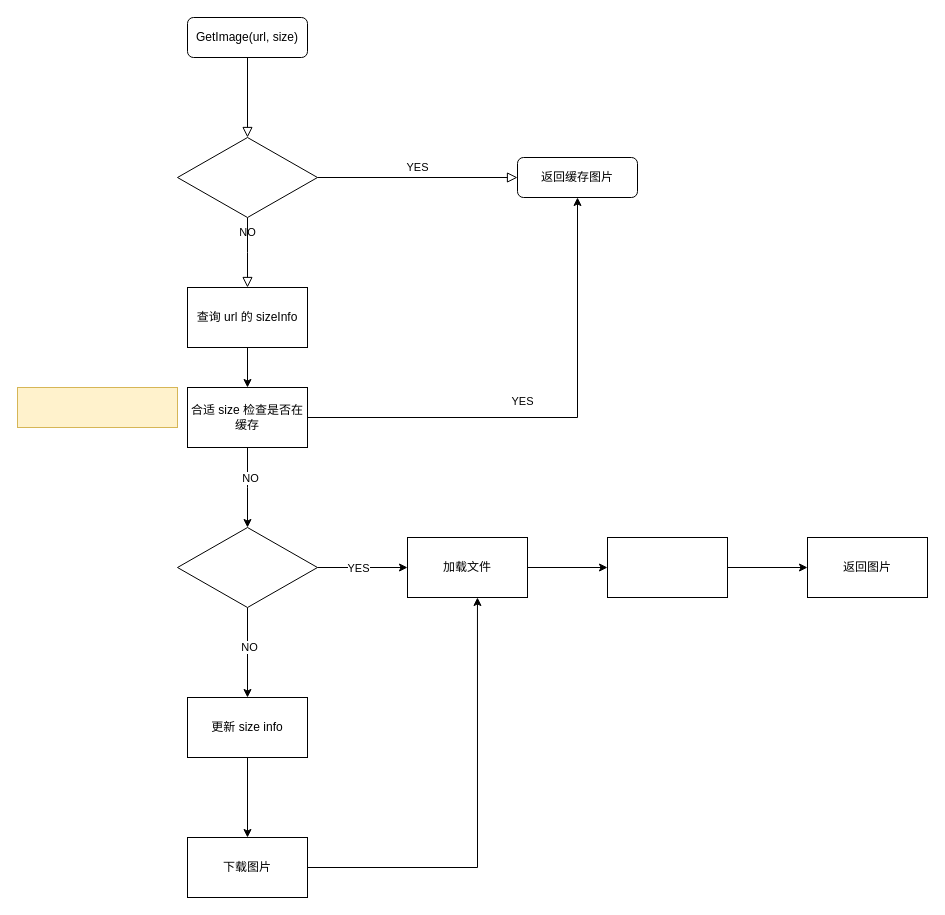
The diagram is 945 pixels wide and 915 high, and some of its shapes have lost their labels. The centre of each missing label's shape, as x and y in pixels:
url size info 怎样存储？: pixel 97 407
推荐size是否已下载: pixel 247 567
更新缓存: pixel 667 567
检查内存缓存有没有: pixel 247 177
